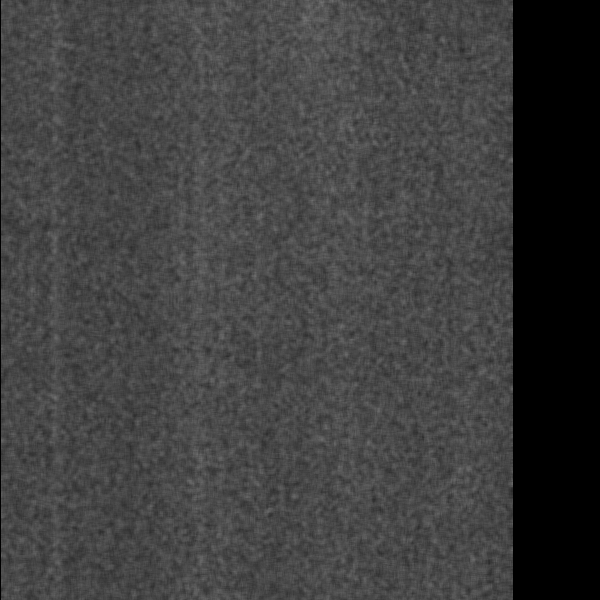spark: (191, 412, 229, 494), (280, 375, 334, 414)
